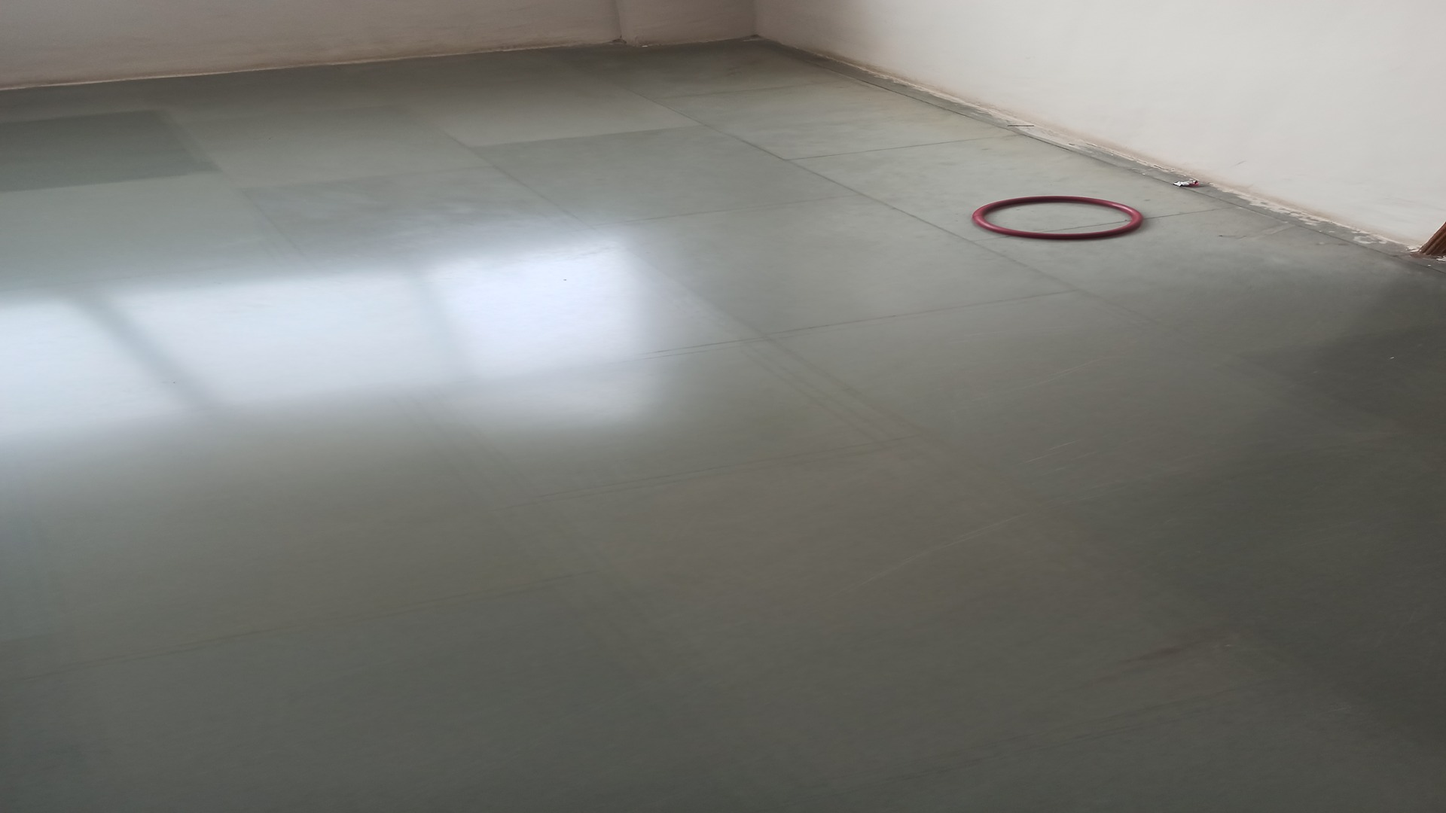Red ring: (971, 193, 1147, 242)
